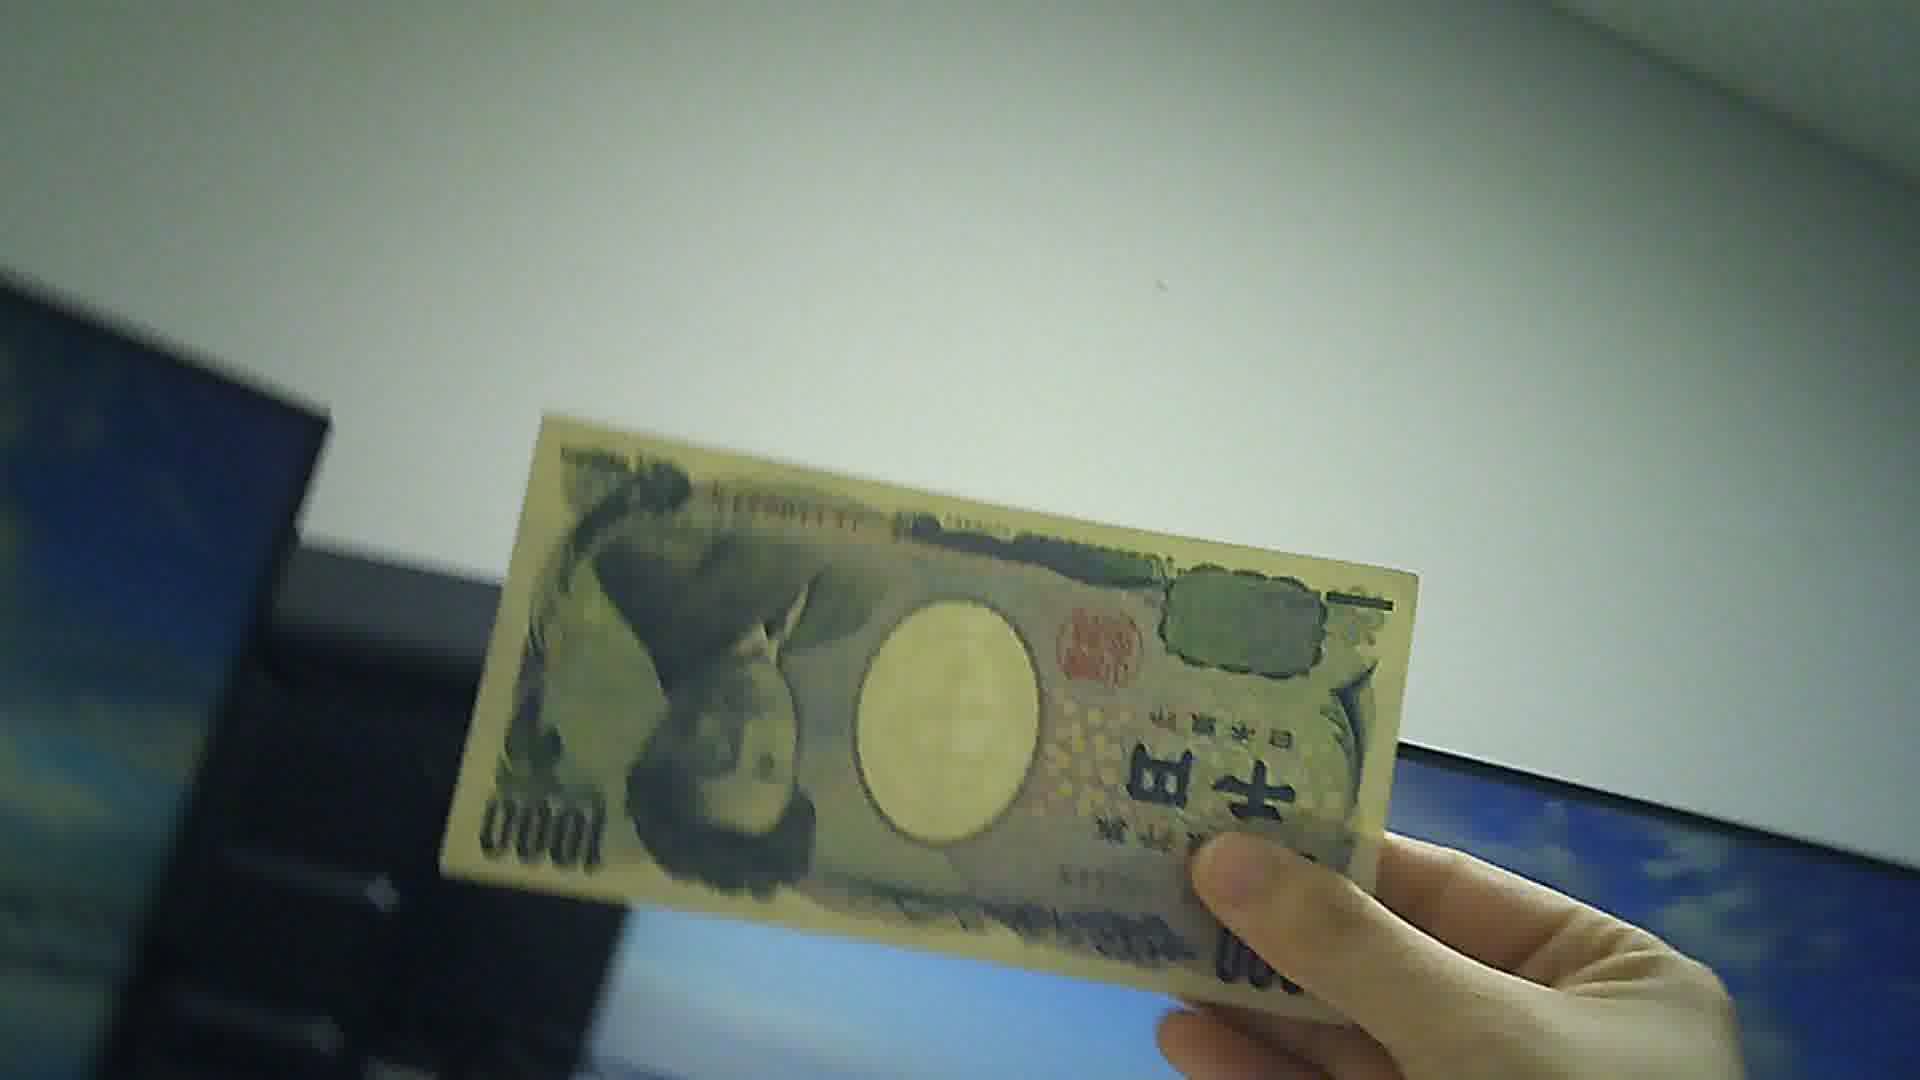1,000 Yen: (427, 400, 1400, 1011)
